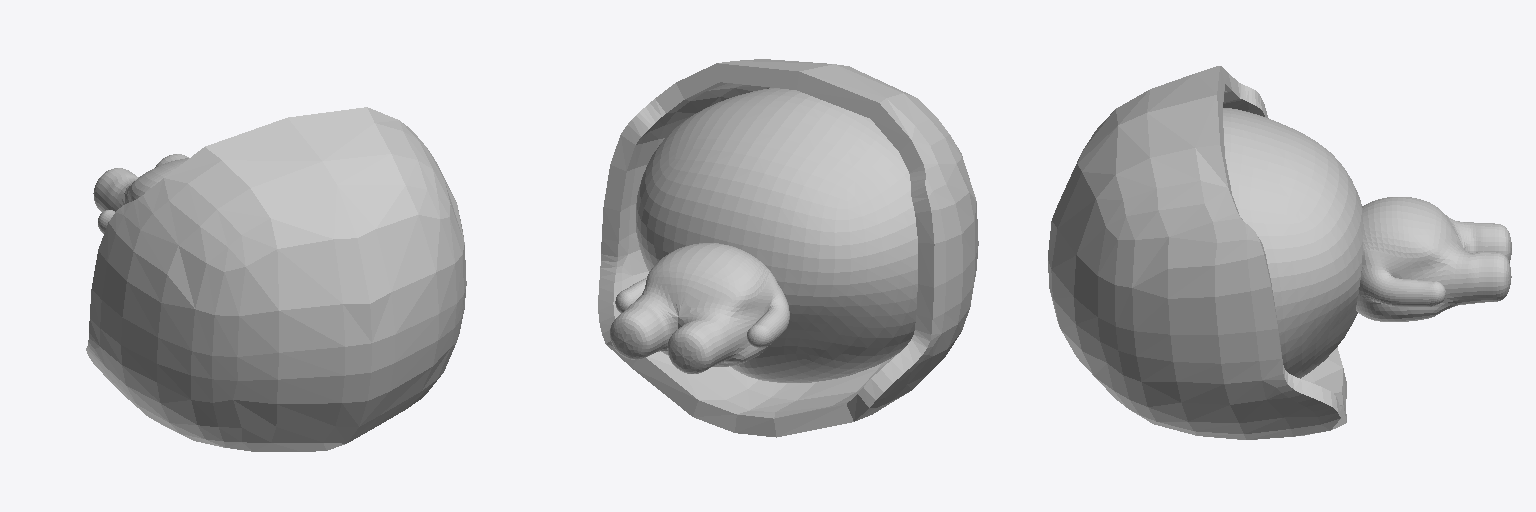
Rendered from character.obj.
3 renders of one model, left to right at view 1: azimuth 30°, elevation 25°; view 2: azimuth 150°, elevation 25°; view 3: azimuth 270°, elevation 25°, orthographic.
Visible parts, largest first — view 1: Bpac_Bpac; view 2: Bpac_Bpac; view 3: Bpac_Bpac.
Part boxes in pixels (bbox=[...]): Bpac_Bpac: bbox=[86, 107, 466, 451]; Bpac_Bpac: bbox=[598, 59, 978, 437]; Bpac_Bpac: bbox=[1048, 66, 1511, 439].
Size of the model in its own units: 1.92 by 1.78 by 2.32.